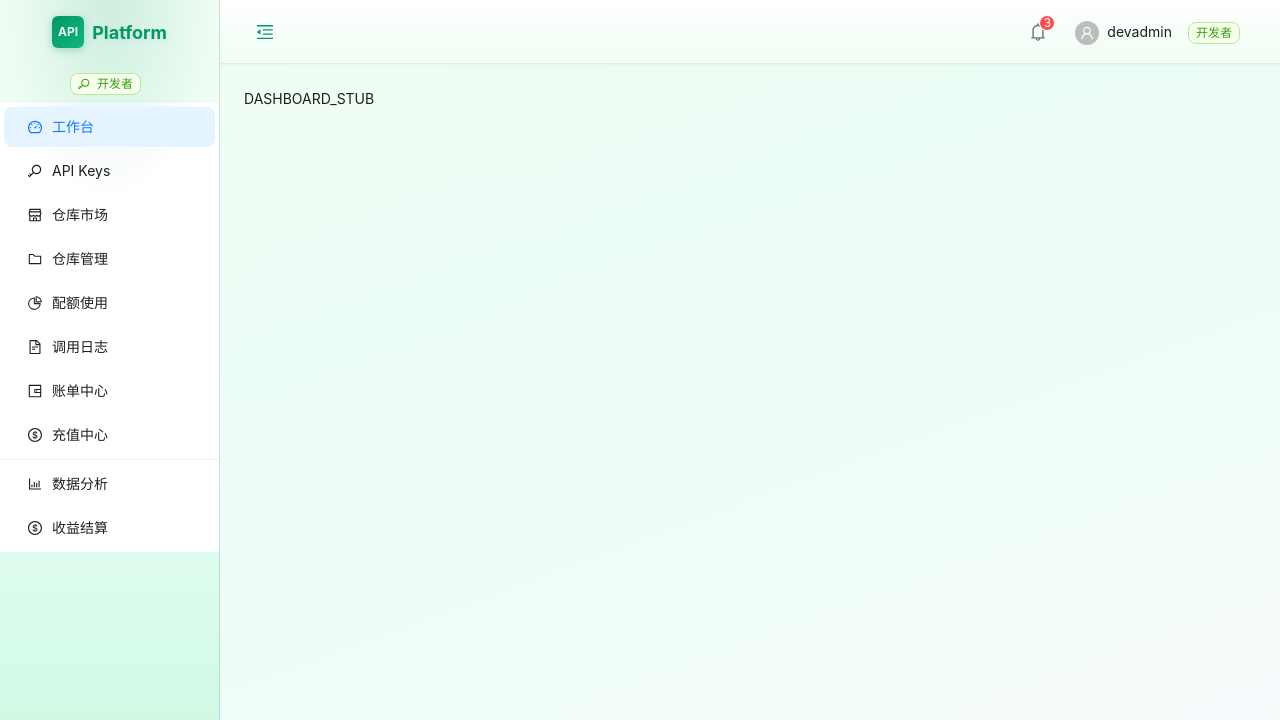
Layout 响应式骨架与通知中心 › TC-FE-LAYOUT-011: 未读数落到铃铛徽标；「全部已读」调后端并刷新未读数
Expected: the element showing "3" is shown, [1040, 16, 1054, 30]
# ② 打开通知面板：未读条数与最近通知
Step 1. Click the picture named "bell" → (1038, 32), box [1029, 22, 1047, 40]
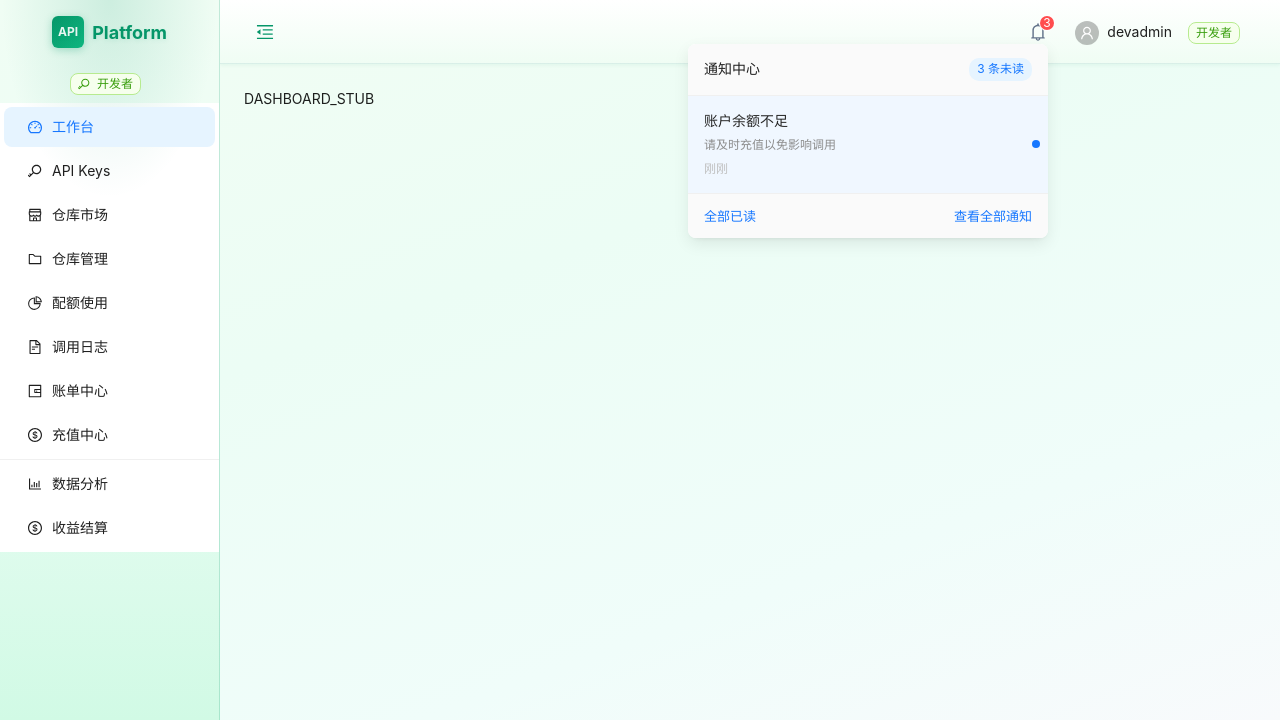
Now the text "通知中心" is shown, box [704, 58, 760, 80]
Now the text "3 条未读" is shown, box [969, 58, 1032, 81]
Now the text "账户余额不足" is shown, box [704, 112, 788, 129]
Step 2. Click the text "全部已读" → (730, 216), box [704, 206, 756, 226]
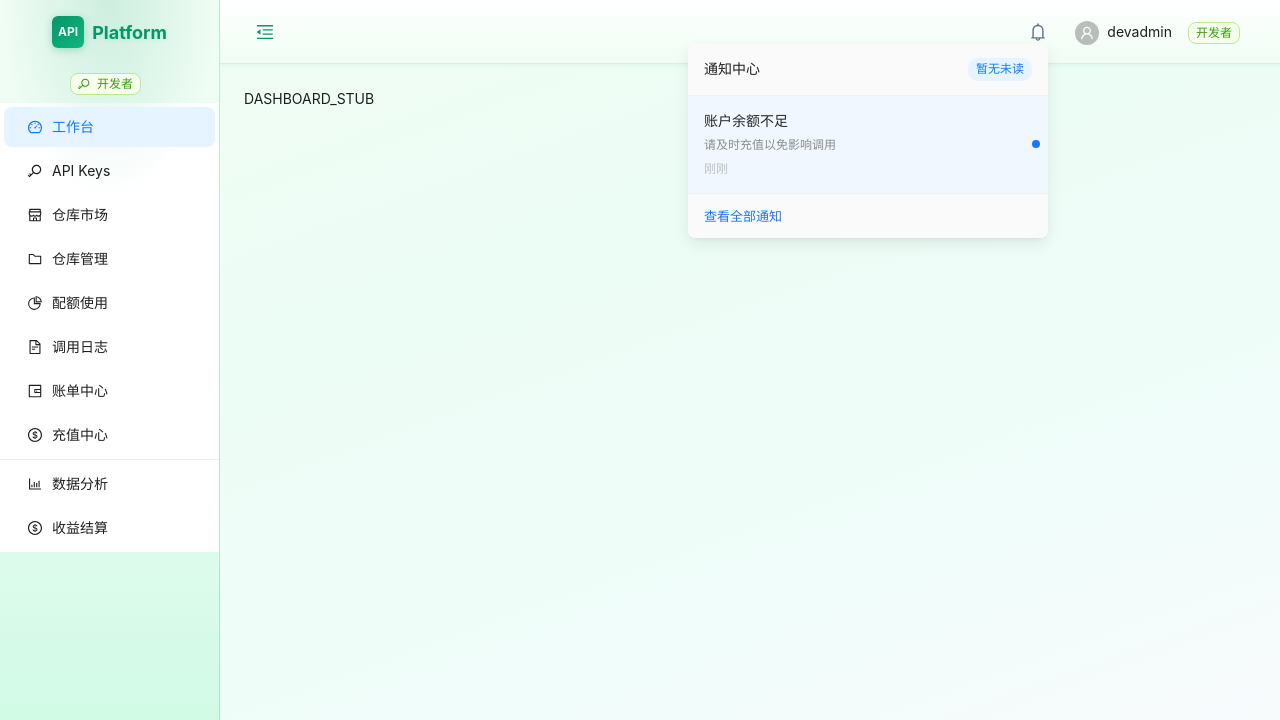
Now the text "暂无未读" is shown, box [968, 58, 1032, 81]
